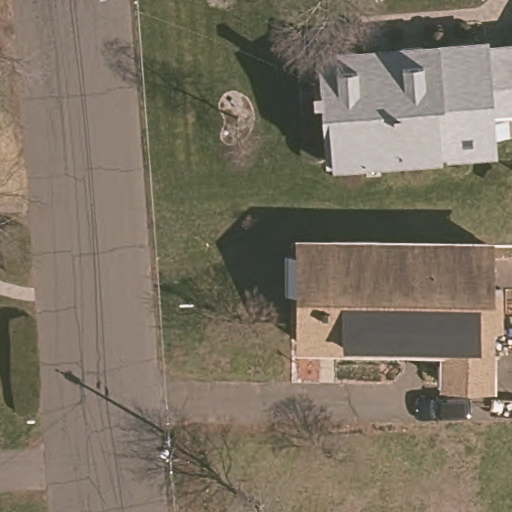DT: (144, 419, 181, 473)
